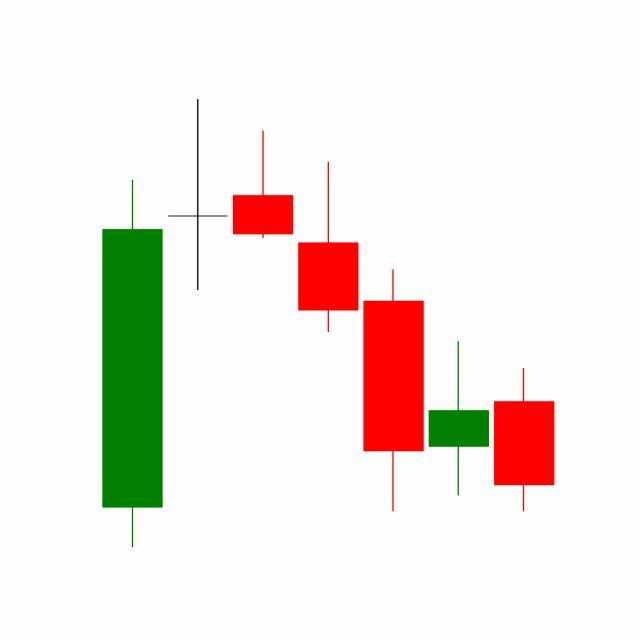Hikkake Pattern: (229, 127, 555, 517)
